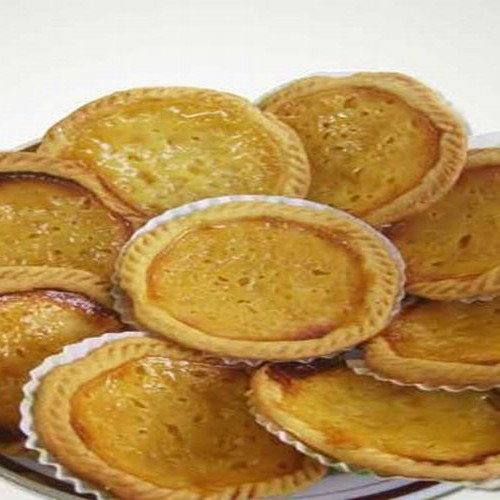pie susu: (26, 328, 317, 500), (123, 200, 398, 370), (48, 88, 302, 232), (251, 341, 500, 484), (268, 67, 462, 240)
